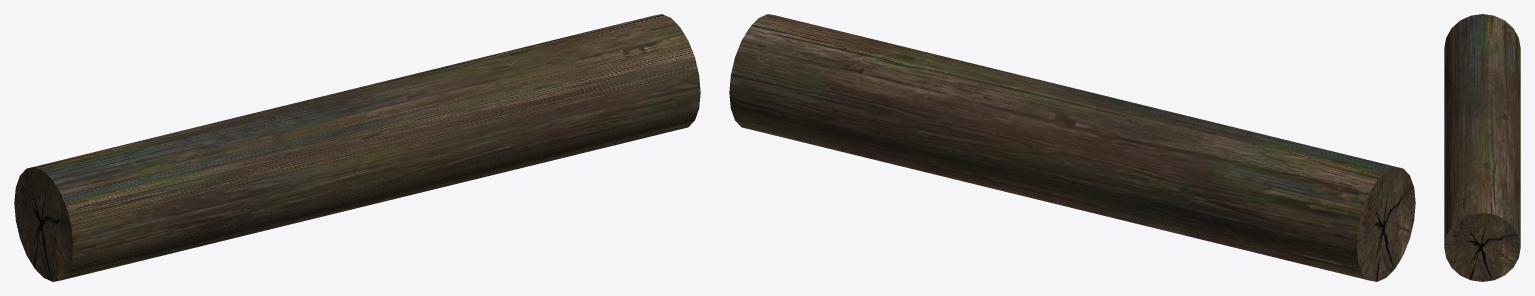
3 renders of one model, left to right at view 1: azimuth 30°, elevation 25°; view 2: azimuth 150°, elevation 25°; view 3: azimuth 270°, elevation 25°, orthographic. The views are drawn at different scales.
Visible parts, largest first — view 1: SM_BB_T1_Beam_Thin_Med_Horizontal_LOD0; view 2: SM_BB_T1_Beam_Thin_Med_Horizontal_LOD0; view 3: SM_BB_T1_Beam_Thin_Med_Horizontal_LOD0.
Part boxes in pixels (box(x1,y1,x2,y2)): SM_BB_T1_Beam_Thin_Med_Horizontal_LOD0: box(14, 14, 700, 281); SM_BB_T1_Beam_Thin_Med_Horizontal_LOD0: box(729, 14, 1415, 281); SM_BB_T1_Beam_Thin_Med_Horizontal_LOD0: box(1444, 14, 1520, 281).
Size of the model in its own units: 1.5 by 0.2438 by 0.2438.
1 material, 1 textured.
